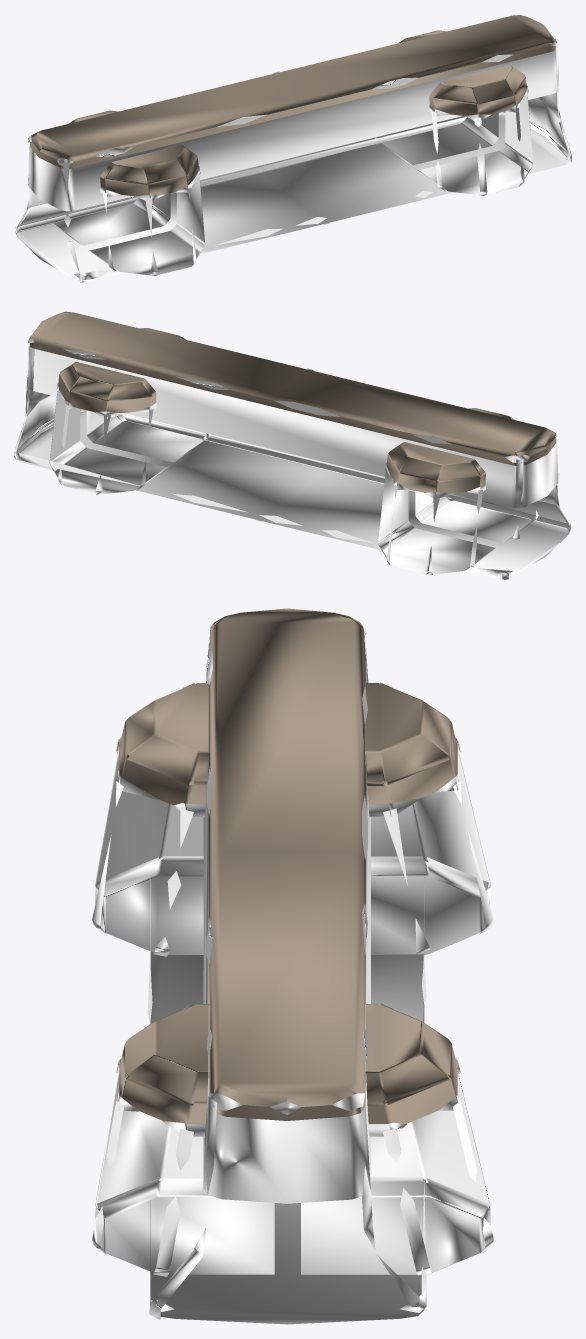
The model's file is fs_construction_bollard_06x02x06.glb.
3 renders of one model, top to bottom at view 1: azimuth 30°, elevation 25°; view 2: azimuth 150°, elevation 25°; view 3: azimuth 270°, elevation 25°, orthographic. The views are drawn at different scales.
Bounding box in the file's own units: 6.2 × 1.33 × 2.12.
